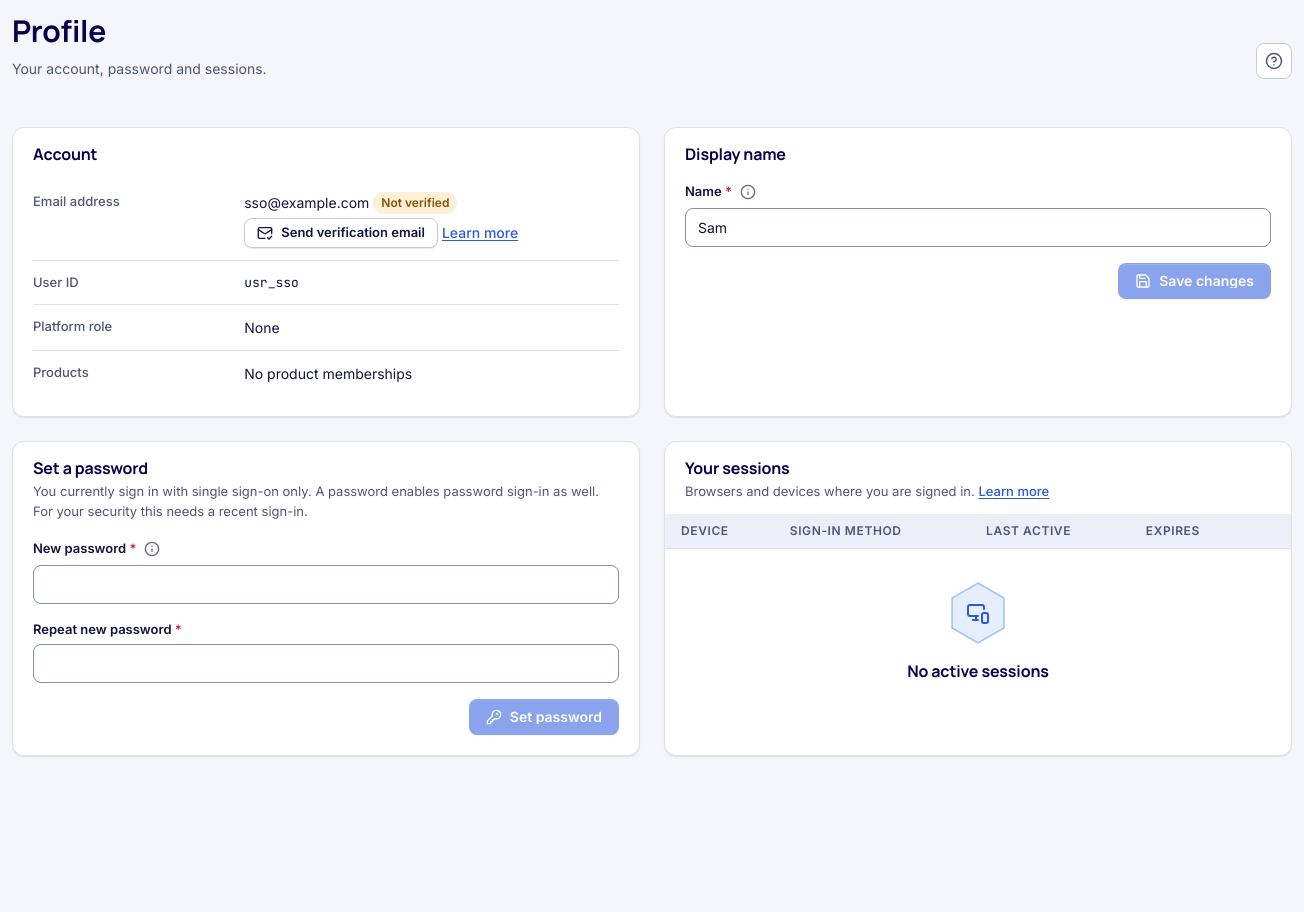
Scenario: ProfilePage email verification › sends a verification email for an unverified address
Expected: the text "Not verified" is shown, [373, 192, 457, 214]
Click the button "Send verification email": coordinates (341, 232) [244, 218, 438, 248]
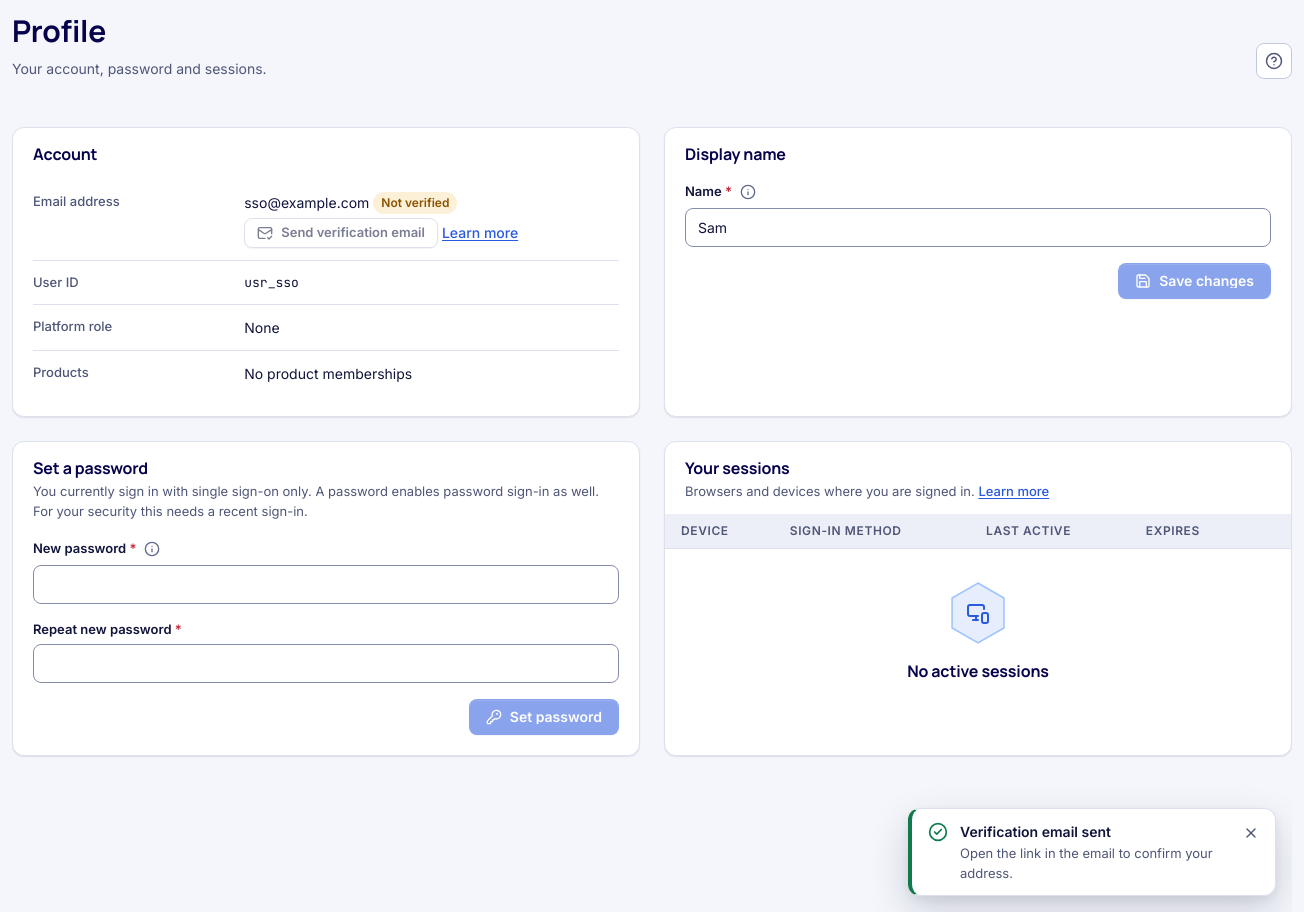
Expected: the text "Verification email sent" is shown, [960, 823, 1111, 840]
Expected: the button "Send verification email" is disabled, [244, 218, 438, 248]
